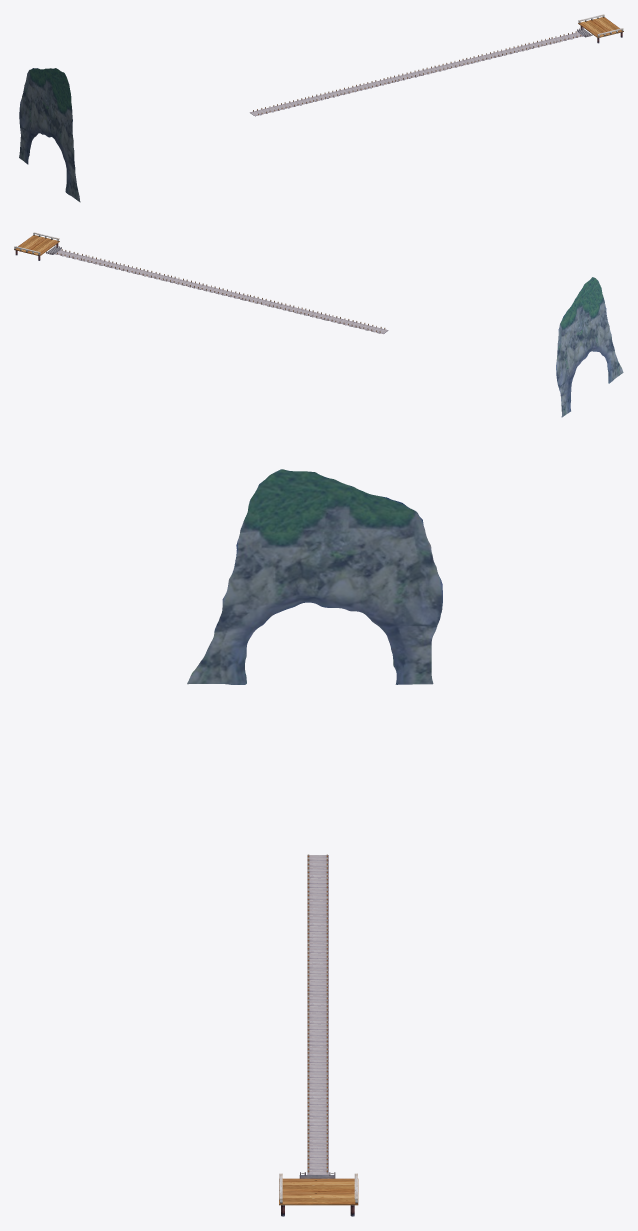
Rendered from Sonic Bridge .fbx.
The picture shows the model from 3 angles, top to bottom: view 1: azimuth 30°, elevation 25°; view 2: azimuth 150°, elevation 25°; view 3: azimuth 270°, elevation 25°; orthographic projection. The views are drawn at different scales.
Visible parts, largest first — view 1: pPlane2, pCube1; view 2: pPlane2, pCube1; view 3: pPlane2, pCube1.
Boxes of the visible parts, bbox=[...] form: pPlane2: bbox=[19, 68, 80, 202]; pCube1: bbox=[578, 17, 623, 37]; pPlane2: bbox=[556, 277, 623, 417]; pCube1: bbox=[14, 235, 59, 256]; pPlane2: bbox=[187, 469, 442, 684]; pCube1: bbox=[279, 1178, 358, 1205].
Bounding box in the file's own units: 2658 × 545 × 546.
10 materials, 10 textured.
